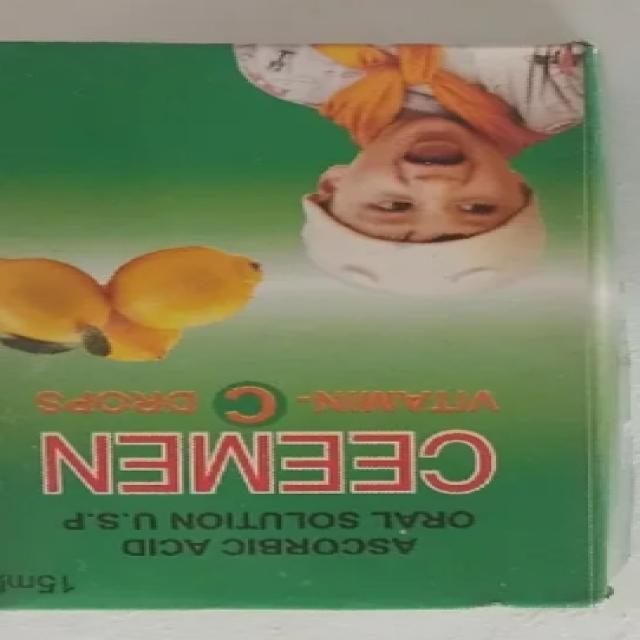drug-name: (36, 426, 500, 499)
